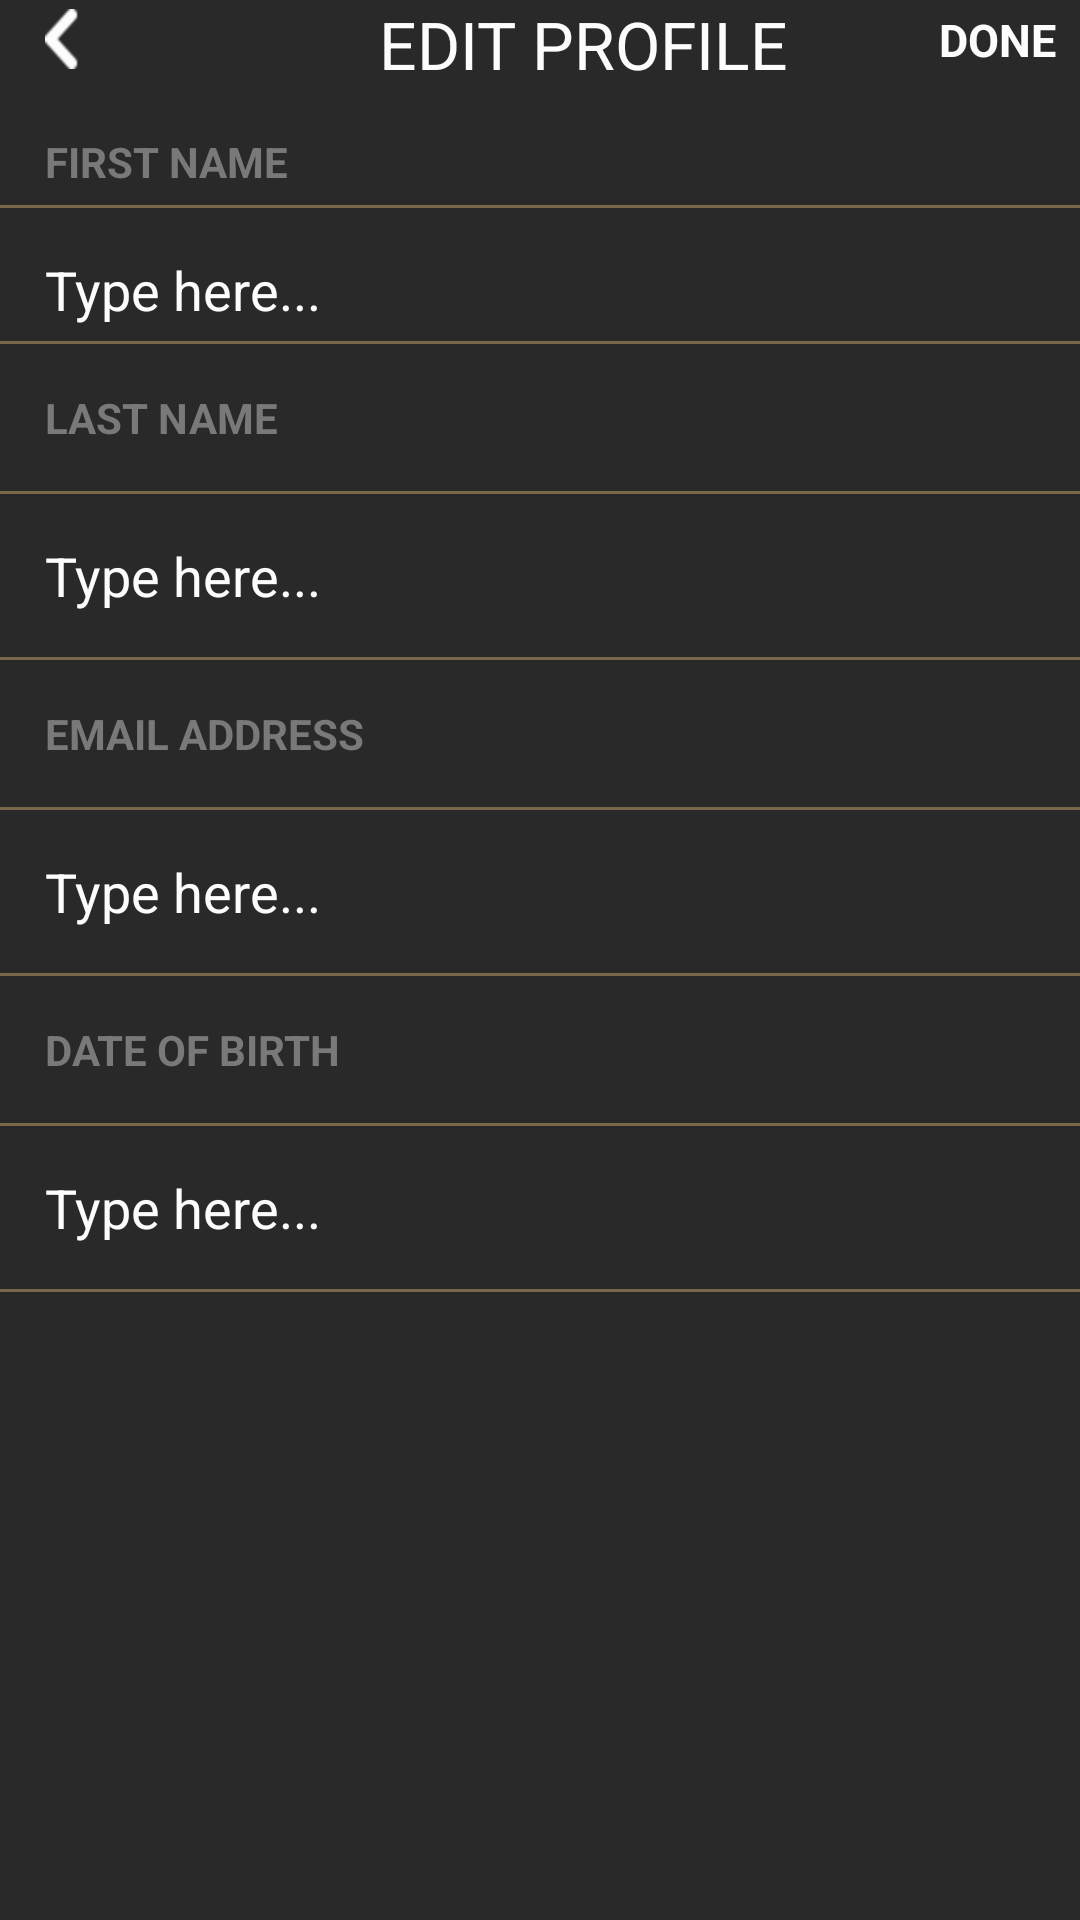

Named icons in this screenshot (1080×1920) and their bounding boxes, (x1, y1, x2, y2):
wolfpack back arrow: (45, 9, 78, 69)
